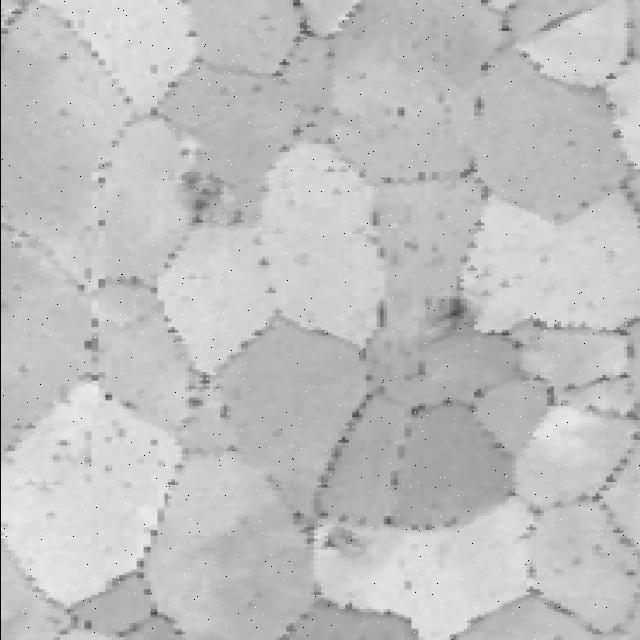good_void: (420, 295, 474, 344)
